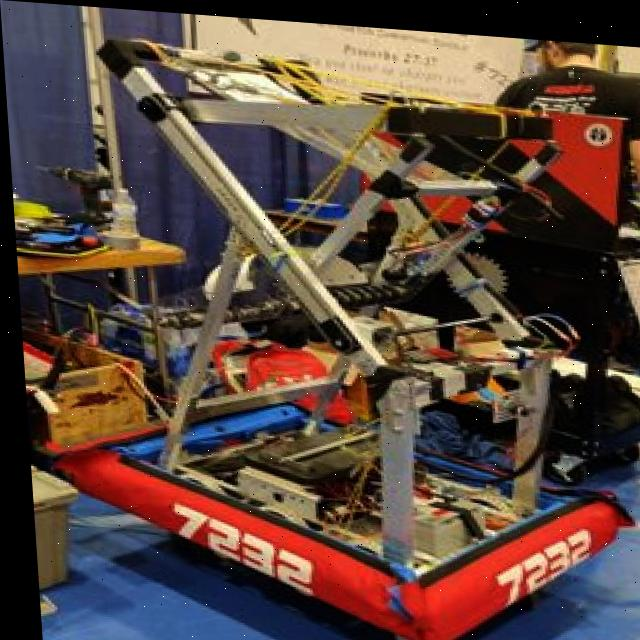robot: (24, 16, 640, 640)
